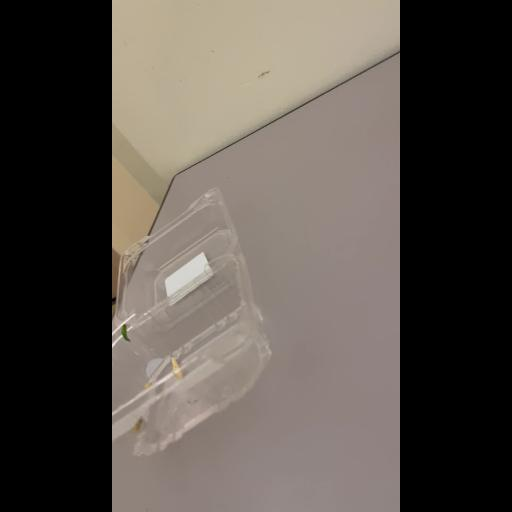small_plastic_container: (112, 188, 280, 470)
